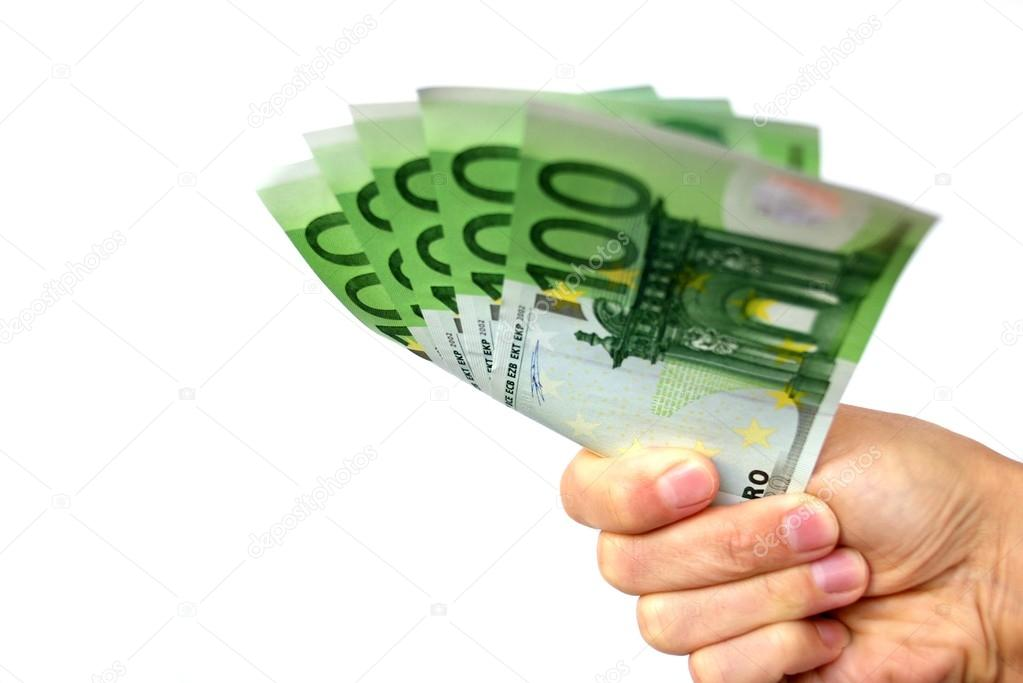billete: (252, 80, 943, 516)
